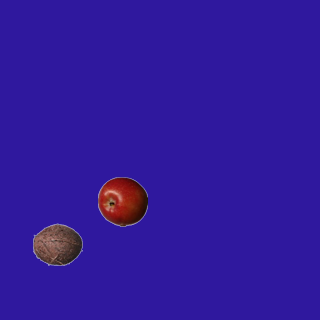Apple Braeburn: (97, 176, 147, 226)
Cocos: (32, 219, 82, 269)
